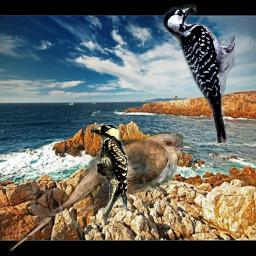Cuckoo: (9, 131, 197, 253)
Woodpecker: (162, 3, 235, 143), (88, 124, 130, 224)
